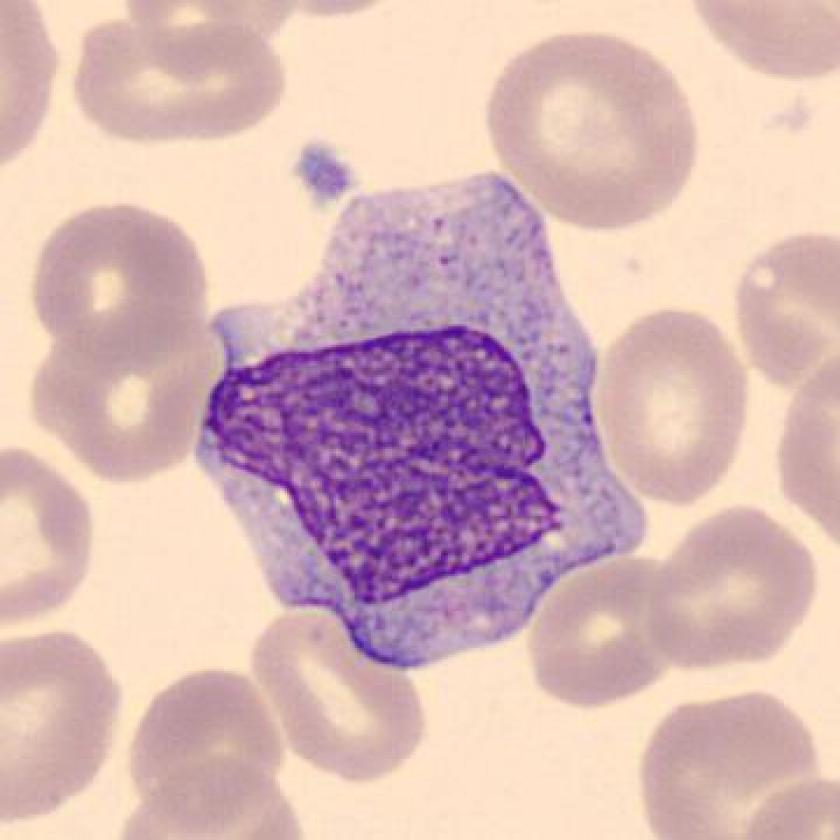monocyte: (174, 168, 668, 695)
